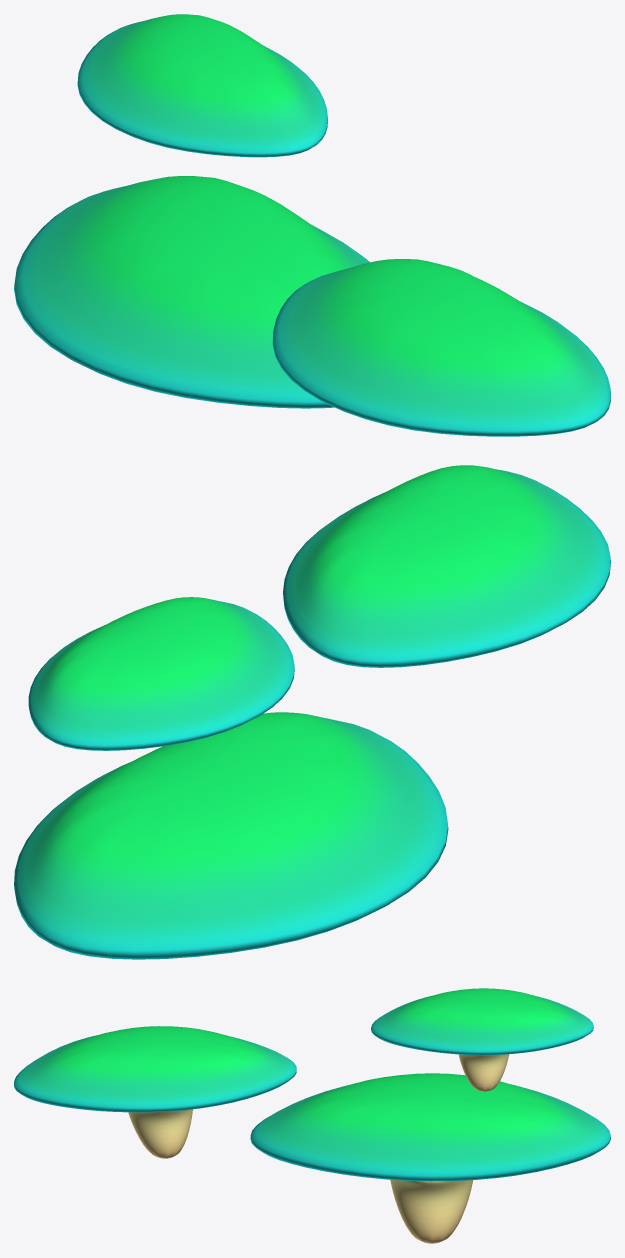
Rendered from WallMushrooms3.fbx.
3 views of the same model, one above another, from view 1: azimuth 30°, elevation 25°; view 2: azimuth 150°, elevation 25°; view 3: azimuth 270°, elevation 25° (orthographic). The views are drawn at different scales.
Parts seen in each view (by area): view 1: MushroomCap.004, MushroomCap.005, MushroomCap.006; view 2: MushroomCap.004, MushroomCap.005, MushroomCap.006; view 3: MushroomCap.004, MushroomCap.005, MushroomCap.006, MushroomStem.004, MushroomStem.005, MushroomStem.006.
Boxes of the visible parts, box(x1,y1,x2,y2) form: MushroomCap.004: box(14, 176, 369, 408); MushroomCap.005: box(272, 259, 610, 436); MushroomCap.006: box(77, 14, 327, 157); MushroomCap.004: box(14, 712, 448, 959); MushroomCap.005: box(283, 465, 610, 667); MushroomCap.006: box(28, 597, 294, 750); MushroomCap.004: box(250, 1073, 610, 1181); MushroomCap.005: box(14, 1026, 296, 1112); MushroomCap.006: box(371, 988, 593, 1055); MushroomStem.004: box(390, 1179, 472, 1243); MushroomStem.005: box(128, 1109, 192, 1158); MushroomStem.006: box(458, 1054, 508, 1091).
Size of the model in its own units: 758 by 775 by 1883.
